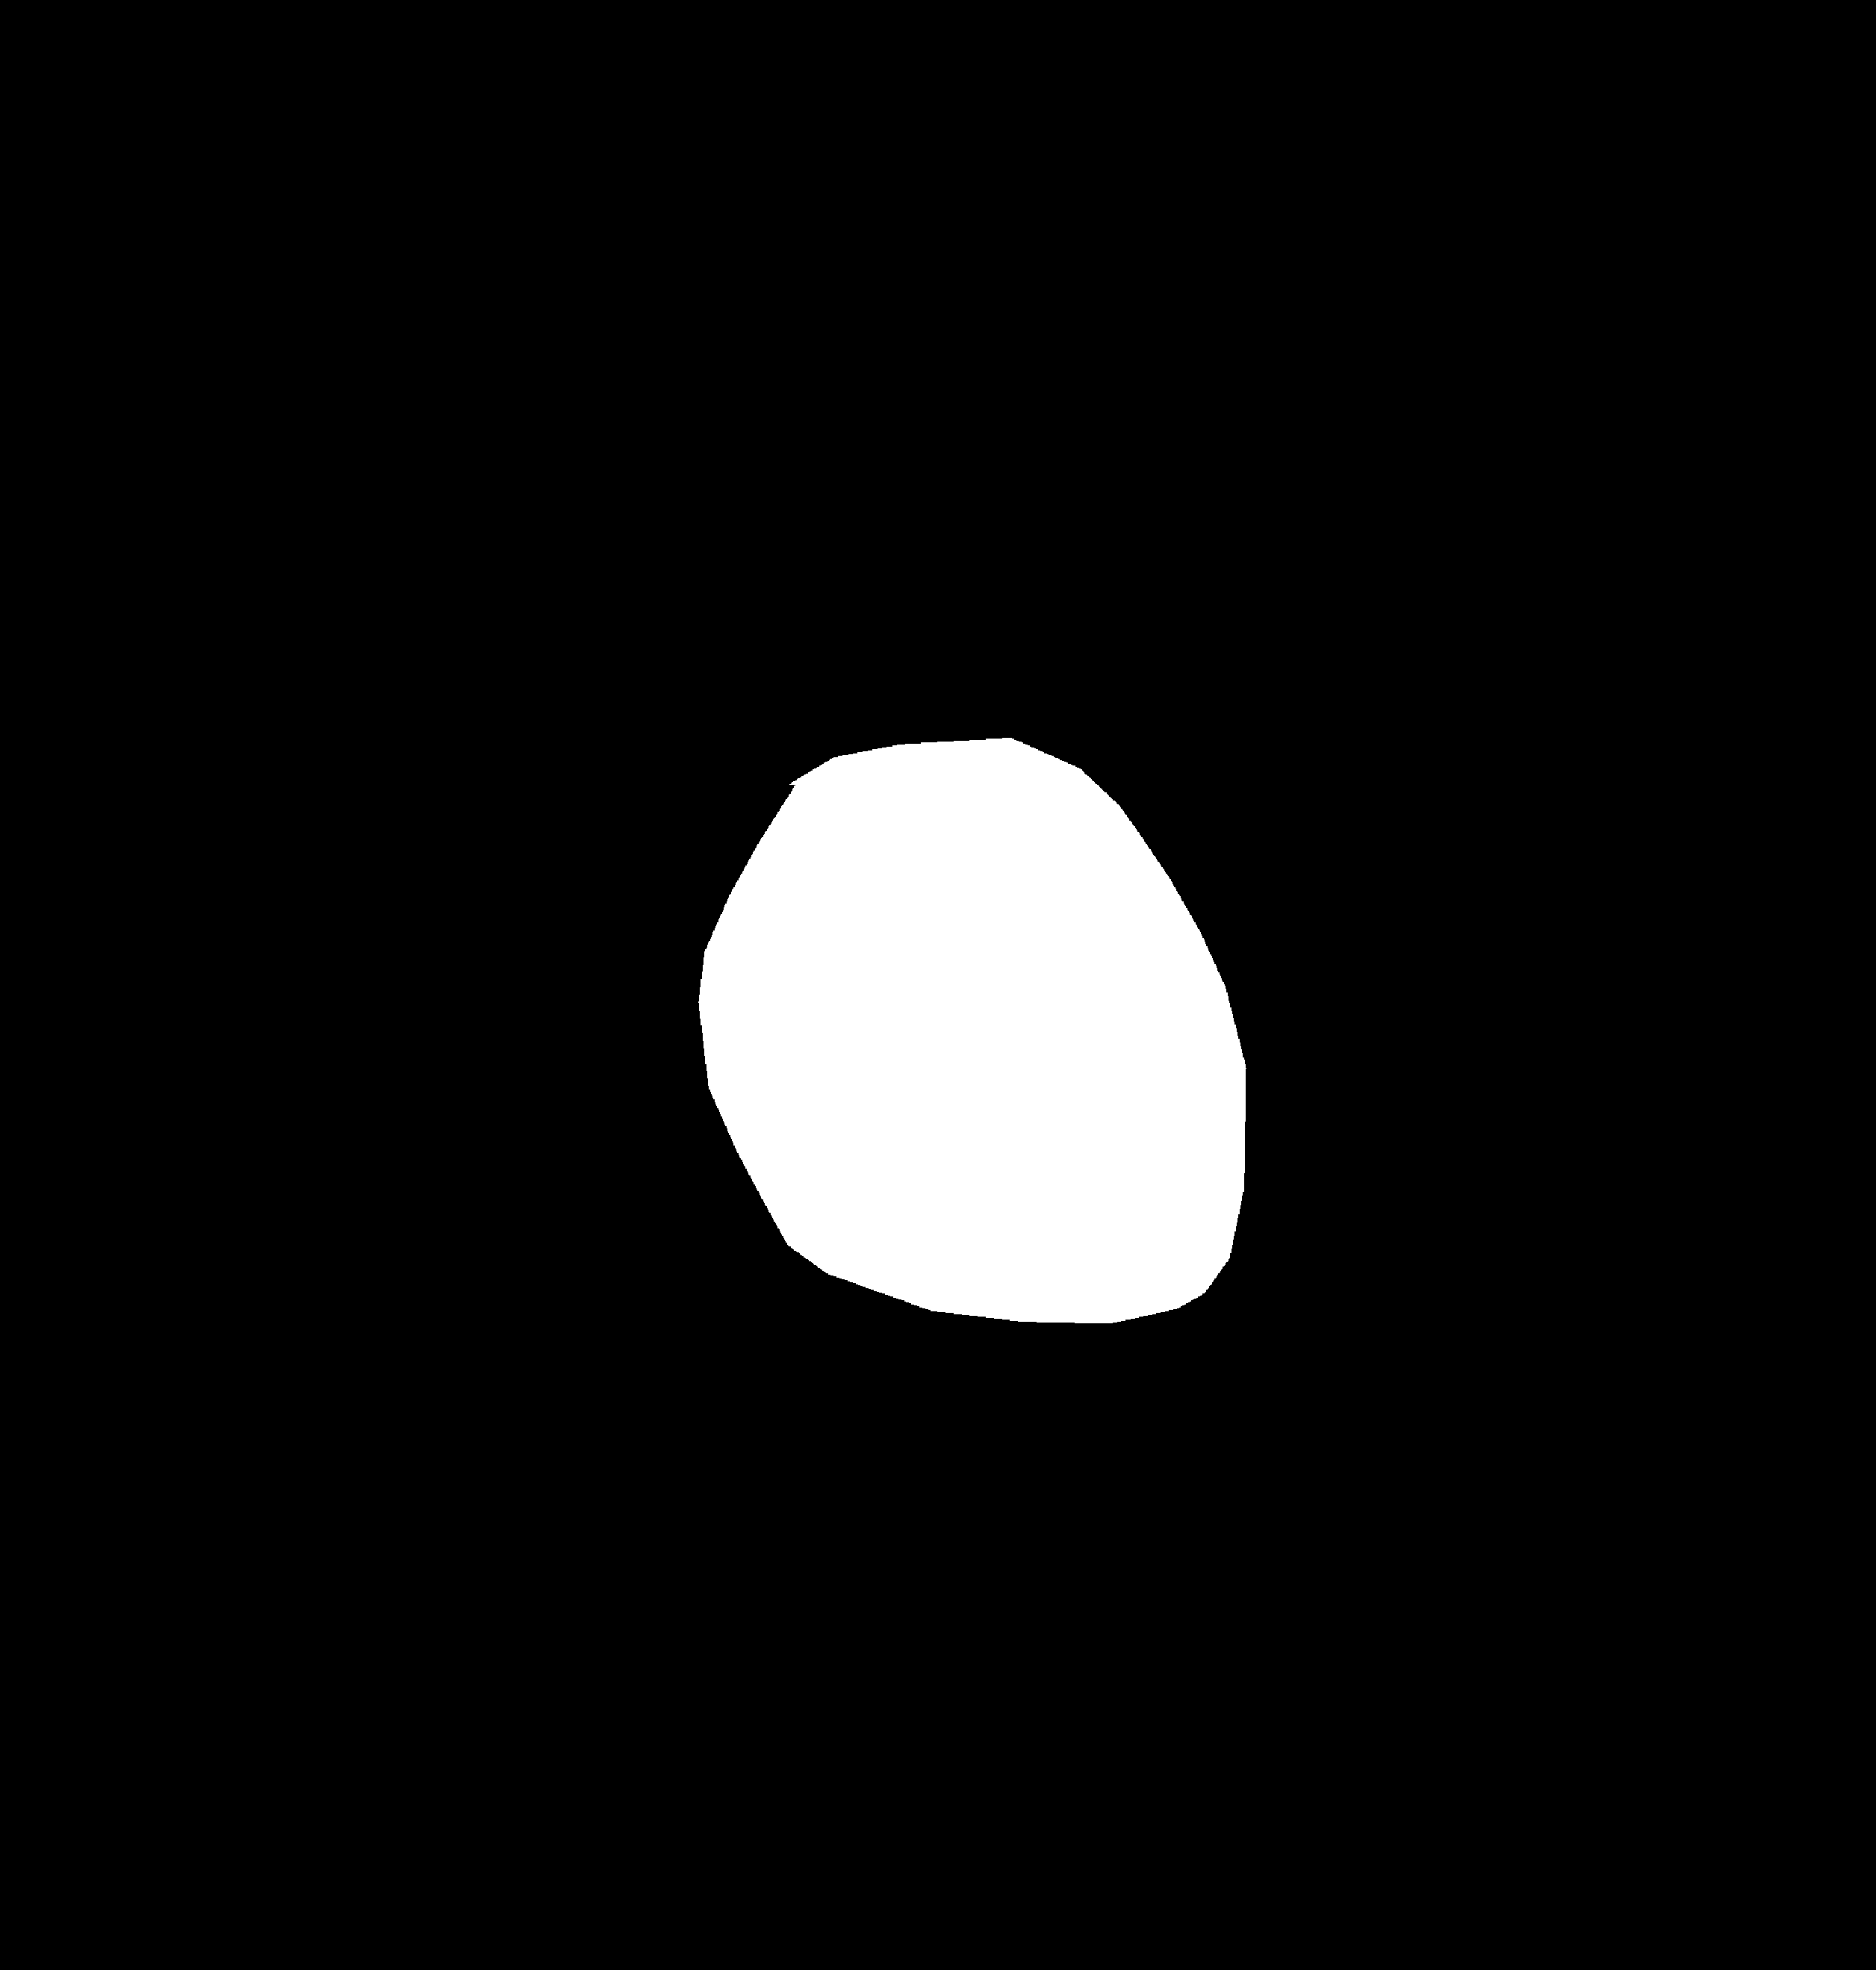heart: (700, 825, 1243, 1302)
left_lung: (241, 134, 847, 1460)
right_lung: (1020, 148, 1549, 1514)
